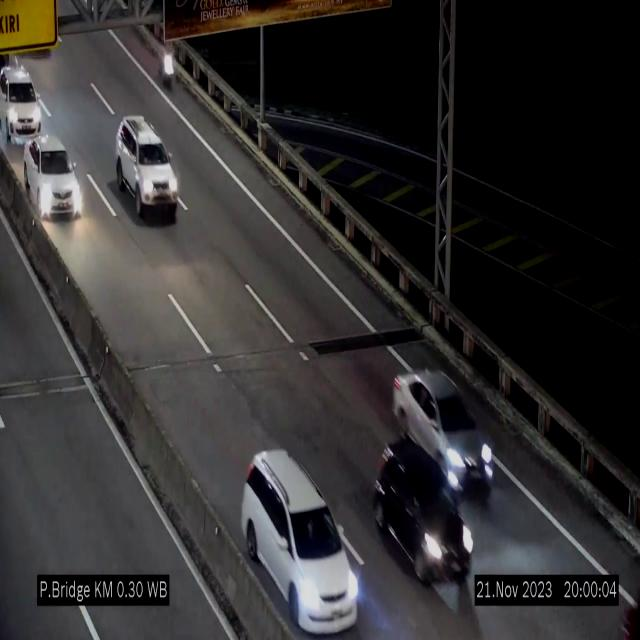Car: (241, 449, 358, 637), (388, 364, 498, 493), (373, 448, 471, 582), (115, 116, 178, 220), (25, 130, 85, 234), (0, 70, 42, 144)
Motorcycle: (158, 40, 174, 94)
